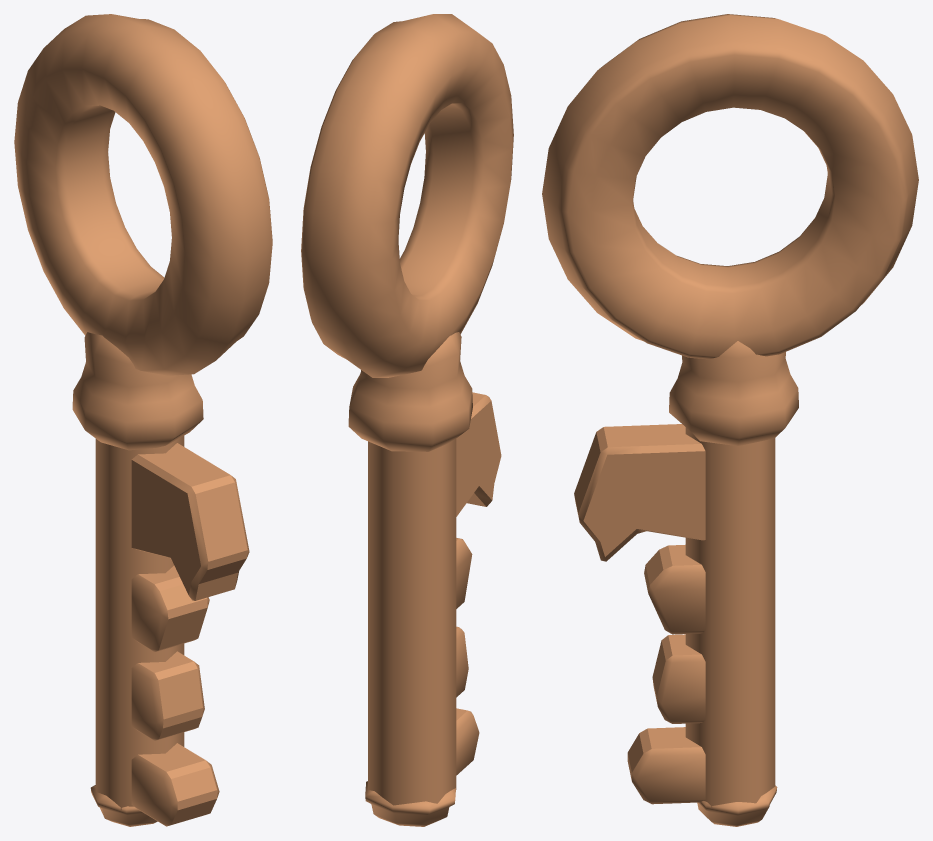
The model's file is SM_collectibleKey.fbx.
3 views of the same model, side by side, from view 1: azimuth 30°, elevation 25°; view 2: azimuth 150°, elevation 25°; view 3: azimuth 270°, elevation 25° (orthographic).
Parts seen in each view (by area): view 1: SM_collectibleKey; view 2: SM_collectibleKey; view 3: SM_collectibleKey.
Boxes of the visible parts, <box> form: SM_collectibleKey: <box>14,14,272,826</box>; SM_collectibleKey: <box>301,14,513,826</box>; SM_collectibleKey: <box>542,14,918,826</box>.
Size of the model in its own units: 0.2206 by 1.5 by 0.6384.
